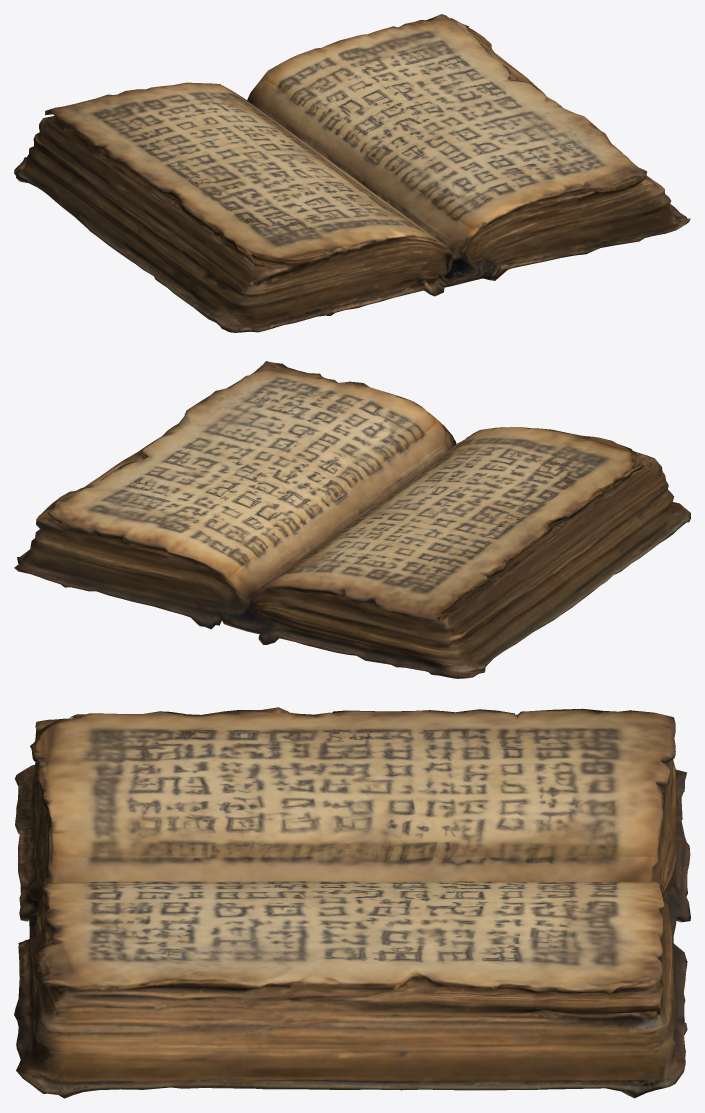
File: Ancient_Script_Myster_0806120520_texture.fbx
3 renders of one model, top to bottom at view 1: azimuth 30°, elevation 25°; view 2: azimuth 150°, elevation 25°; view 3: azimuth 270°, elevation 25°, orthographic. The views are drawn at different scales.
Visible parts, largest first — view 1: input; view 2: input; view 3: input.
Part boxes in pixels (left/top/right/bottom): input: left=14, top=14, right=690, bottom=332; input: left=14, top=361, right=690, bottom=678; input: left=14, top=707, right=690, bottom=1098.
Bounding box in the file's own units: 200 × 28.34 × 175.
Materials: 1 (1 with a texture image).
